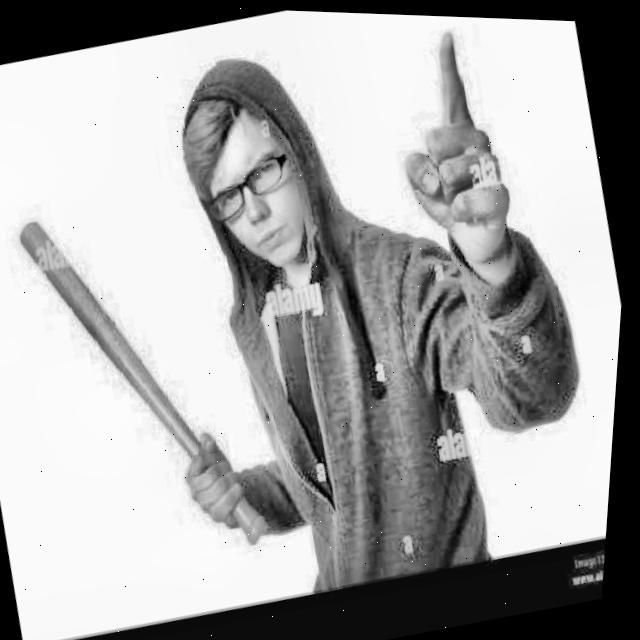tongkat pemukul: (7, 202, 282, 562)
